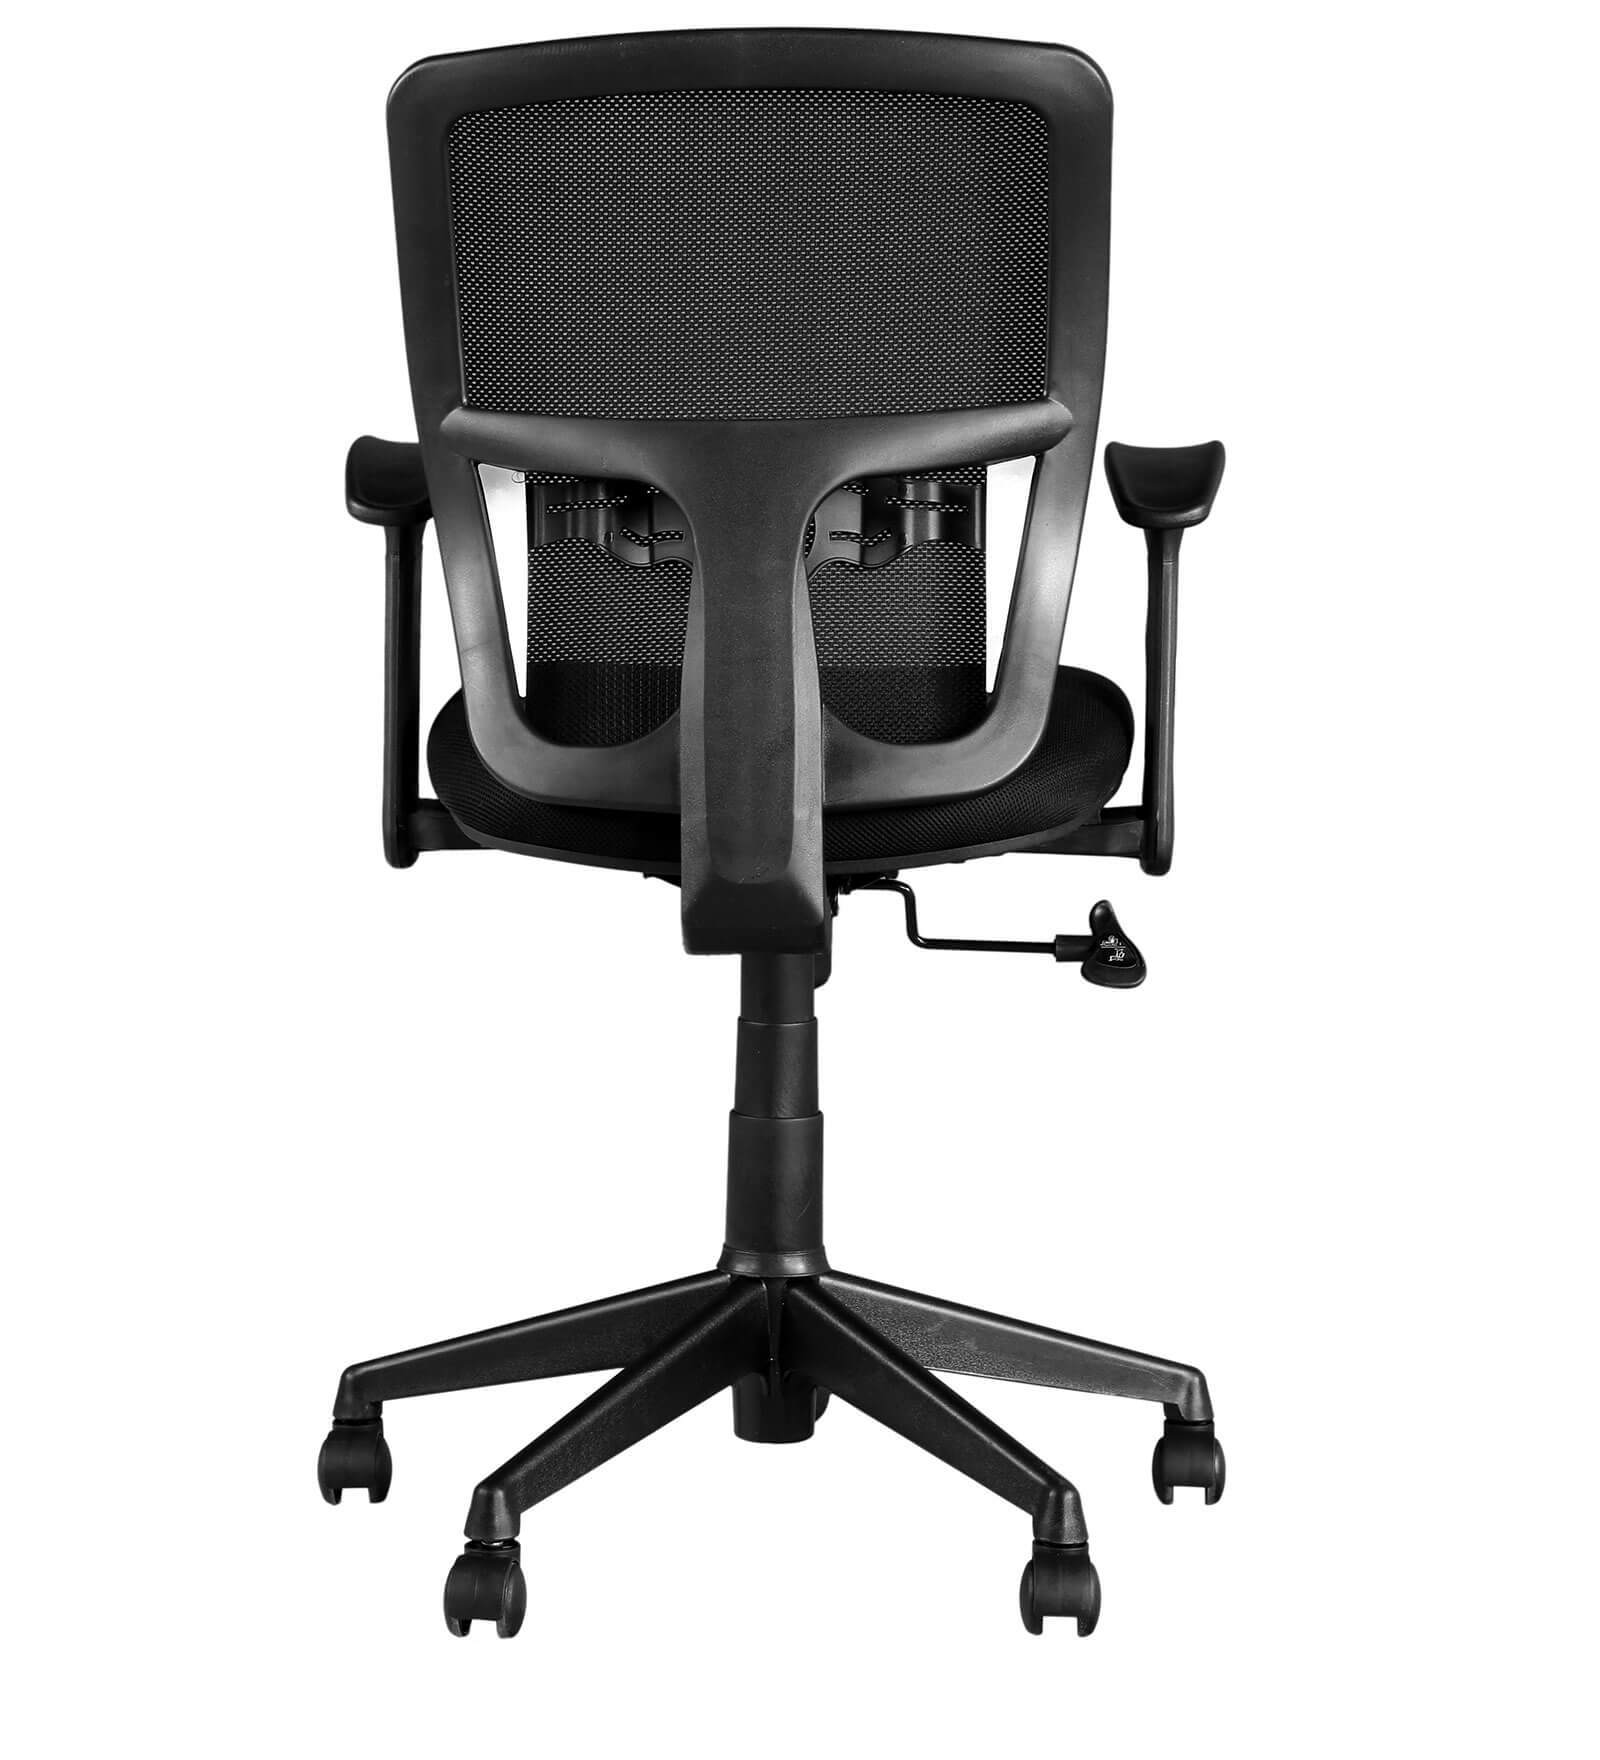Aspire High Back Ergonomic Chair in Black Colour by HomeTown: (290, 26, 1270, 1663)
